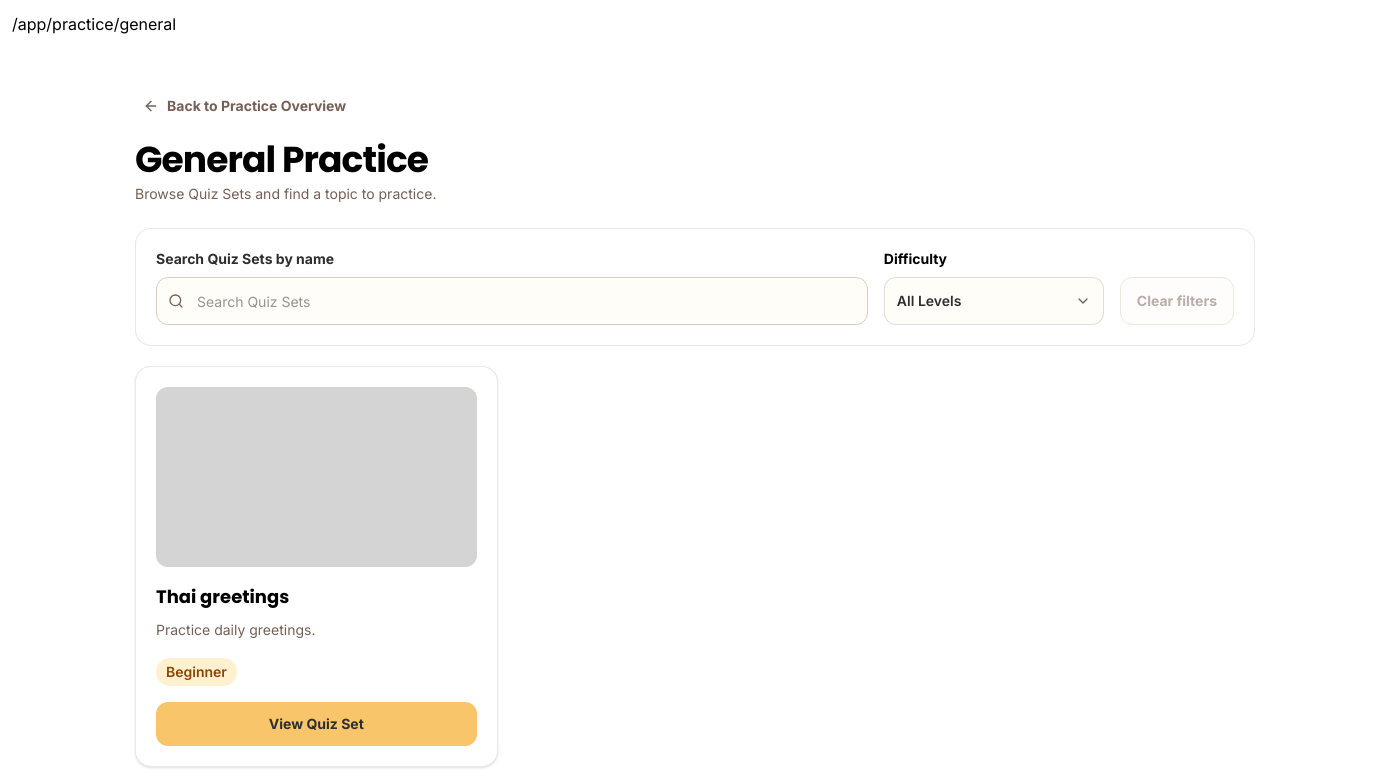
General Practice Quiz Set catalog › combines debounced name search with difficulty and resets the cursor
The image size is (1378, 780).
Expected: the heading "Thai greetings" is shown, [156,584,289,609]
Expected: the icon with class "lucide-chevron-down" is shown, [1075,293,1091,309]
Click the button named "Difficulty". click: (994, 301)
box: [884,277,1104,325]
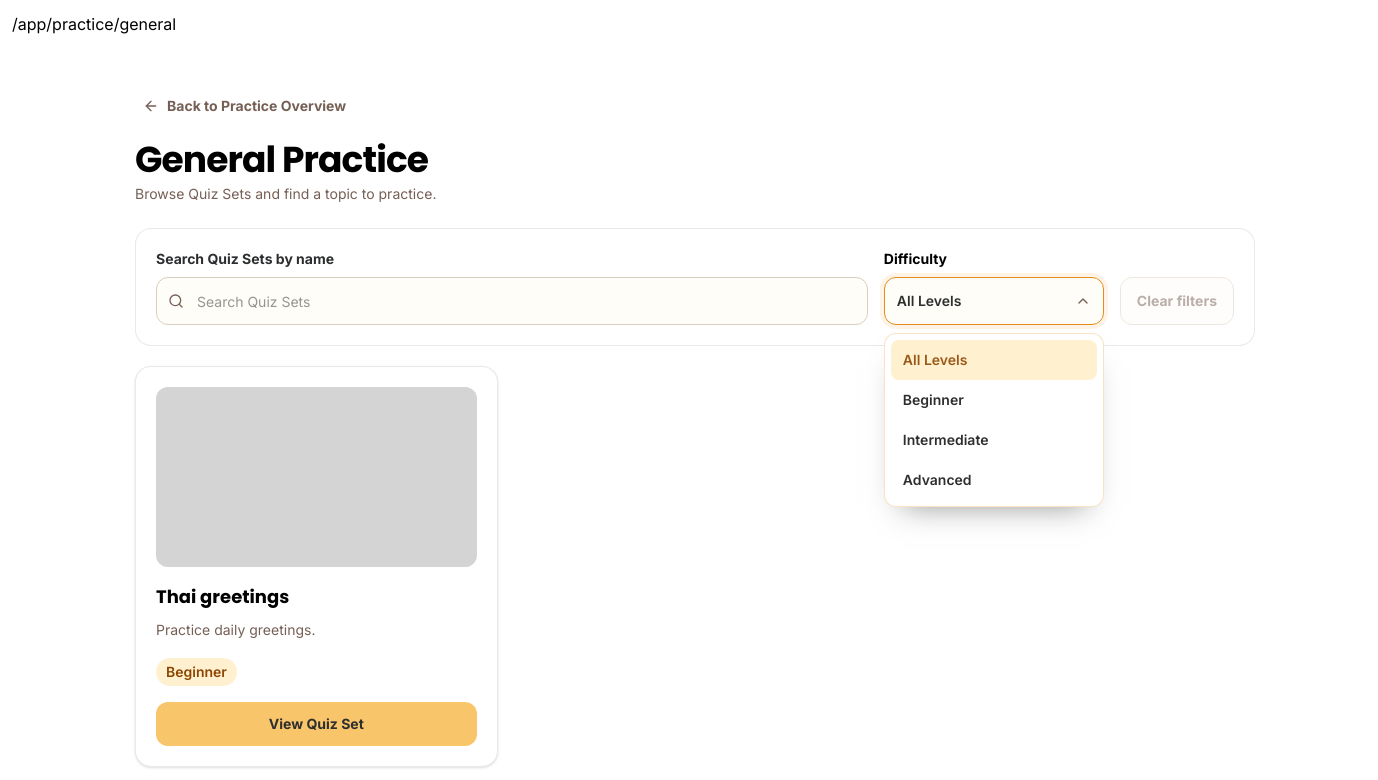
Now the options read "All Levels", "Beginner", "Intermediate", "Advanced", in this order
Click the option "Intermediate". click: (994, 440)
box: [891,420,1097,460]
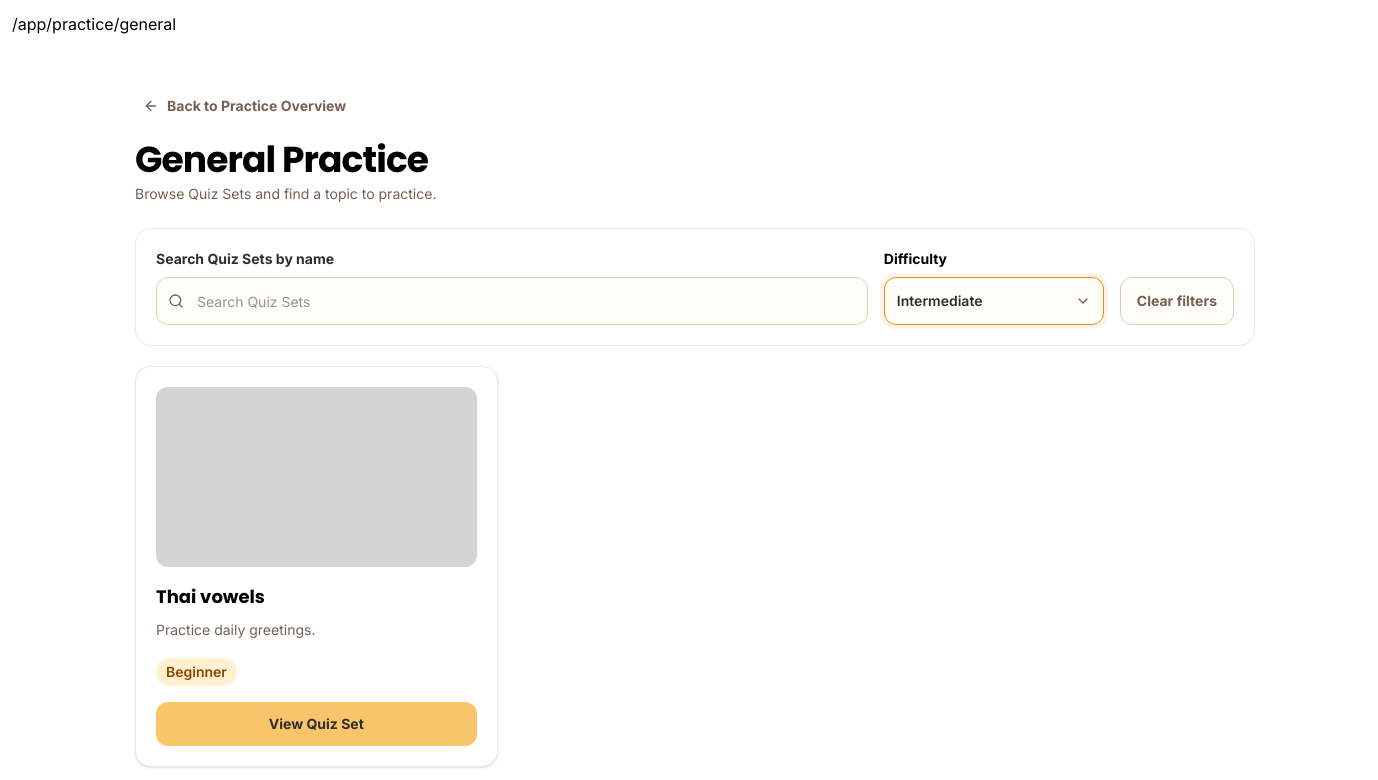
Now the heading "Thai vowels" is shown, box [156,584,265,609]
Type "tones" into the search field labelled "Search Quiz Sets by name". click: (512, 301)
box: [156,277,868,325]
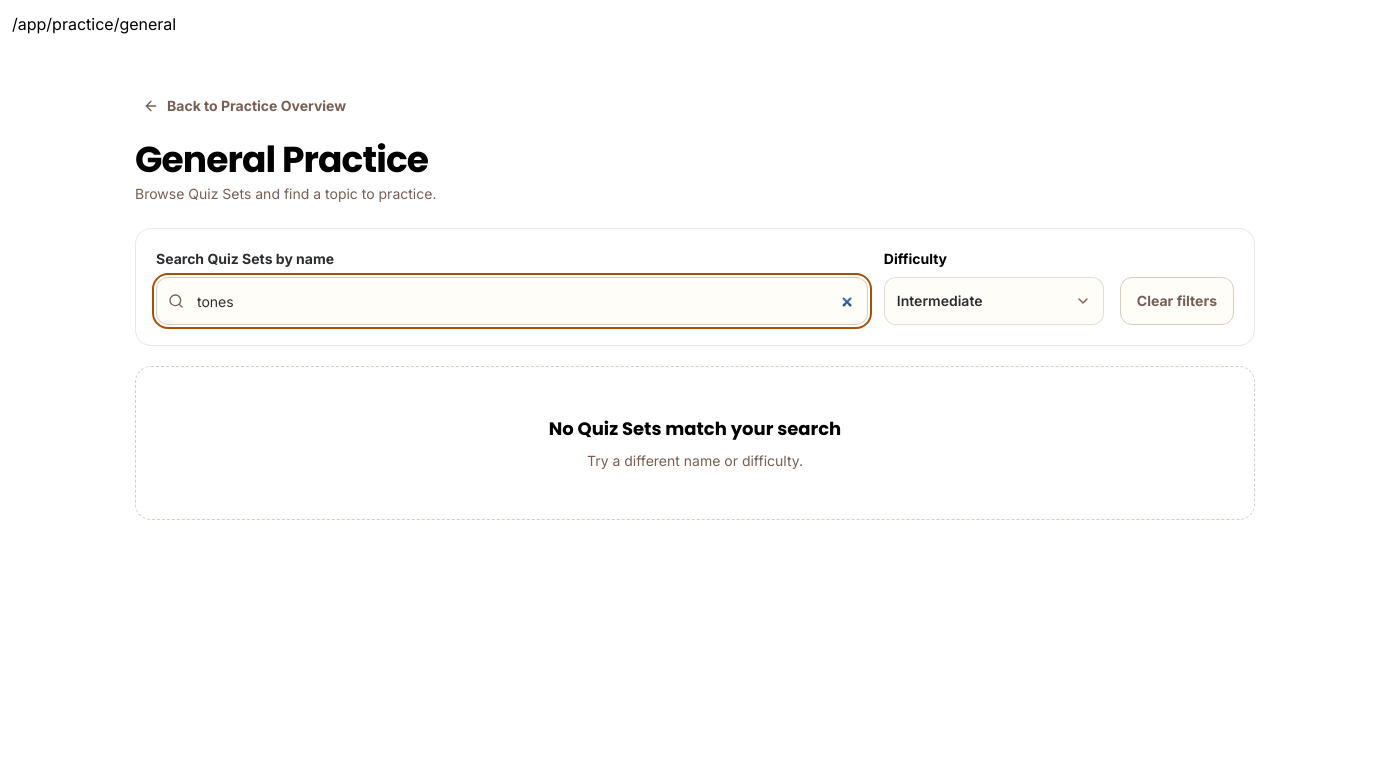
Now the heading "No Quiz Sets match your search" is shown, box [549,416,841,441]
Click the button "Clear filters". click: (1177, 301)
box: [1120,277,1234,325]
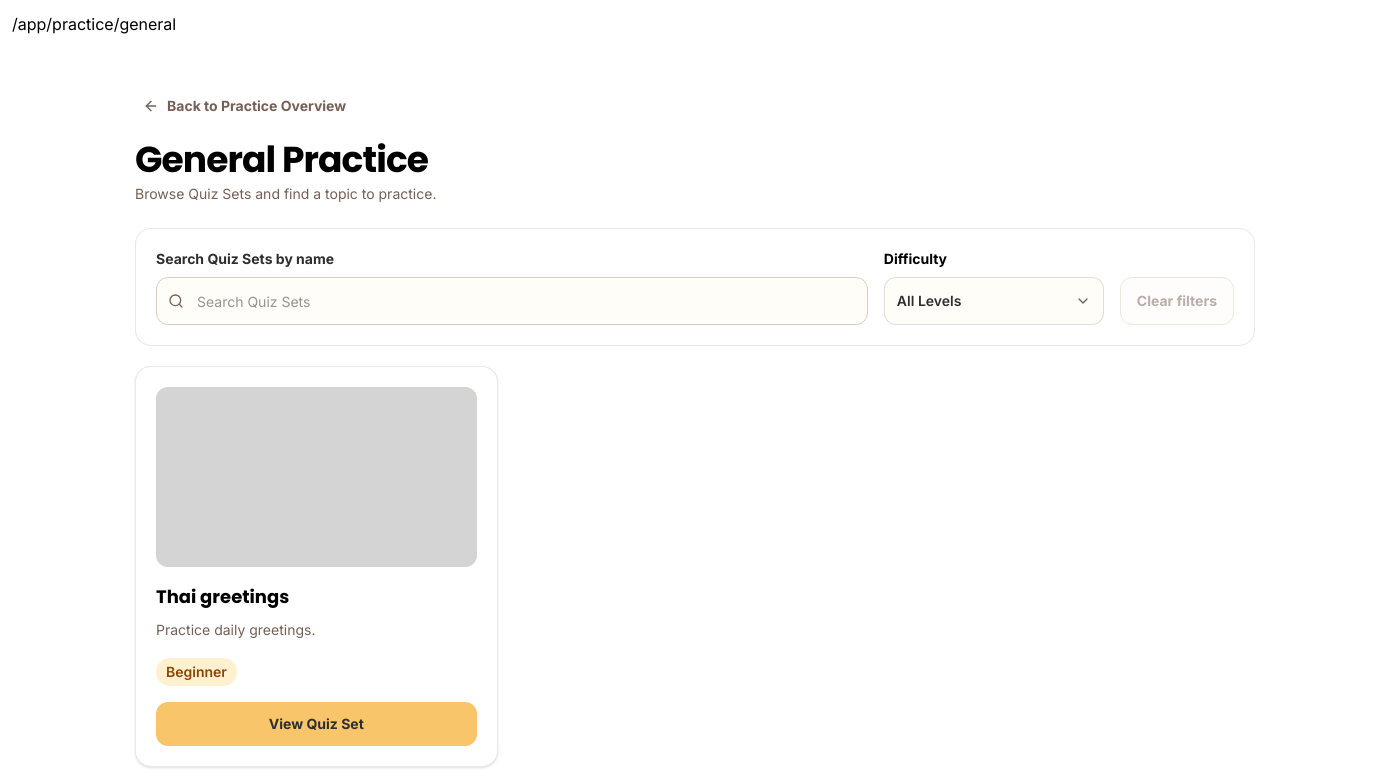
Now the heading "Thai greetings" is shown, box [156,584,289,609]
